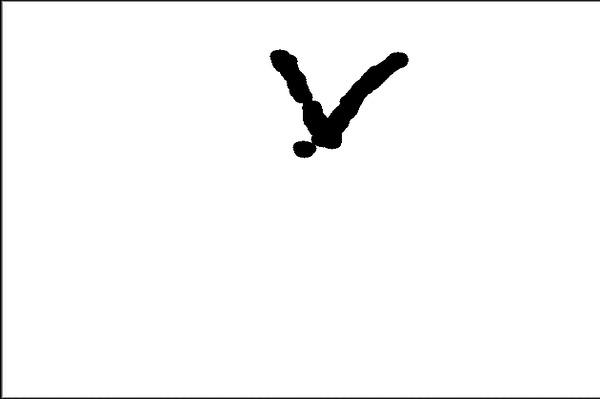V: (261, 26, 421, 164)
